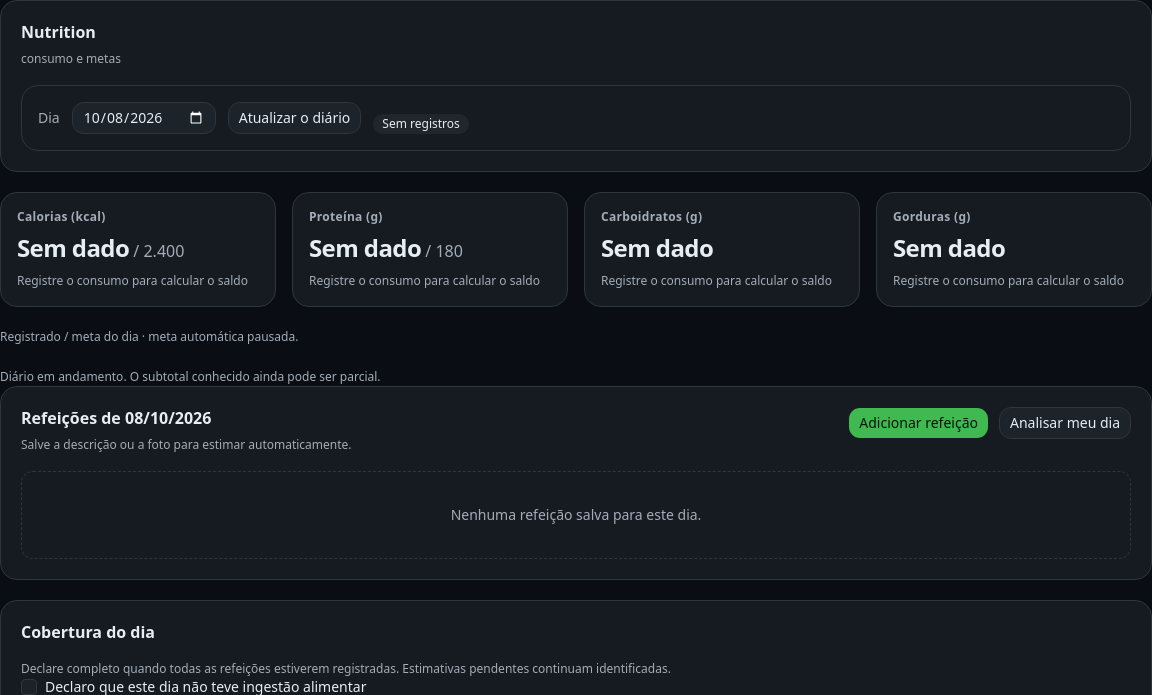
Scenario: nutrition migration behavior › keeps a saved pending meal and reuses its identity after an AI failure
This screenshot has width=1152, height=695.
Click the button "Adicionar refeição". click: (919, 423)
box: [848,407,989,439]
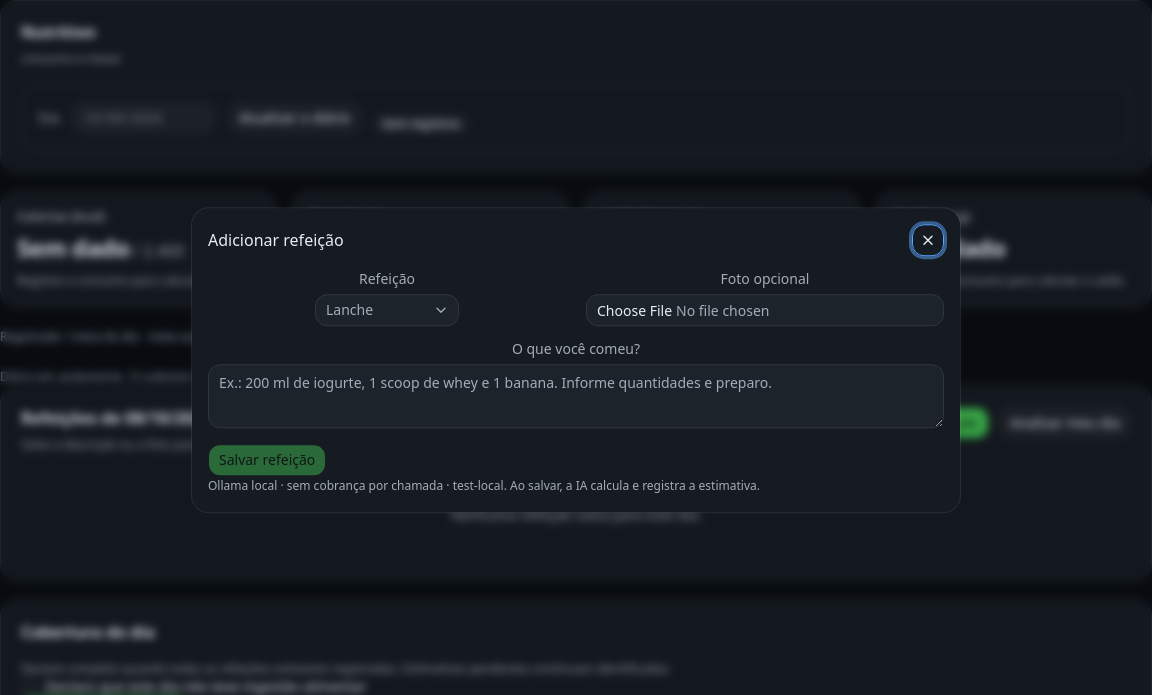
Replace the text in the text box labelled "O que você comeu?" with "Iogurte com banana". click: (576, 396)
box: [208,364,944,428]
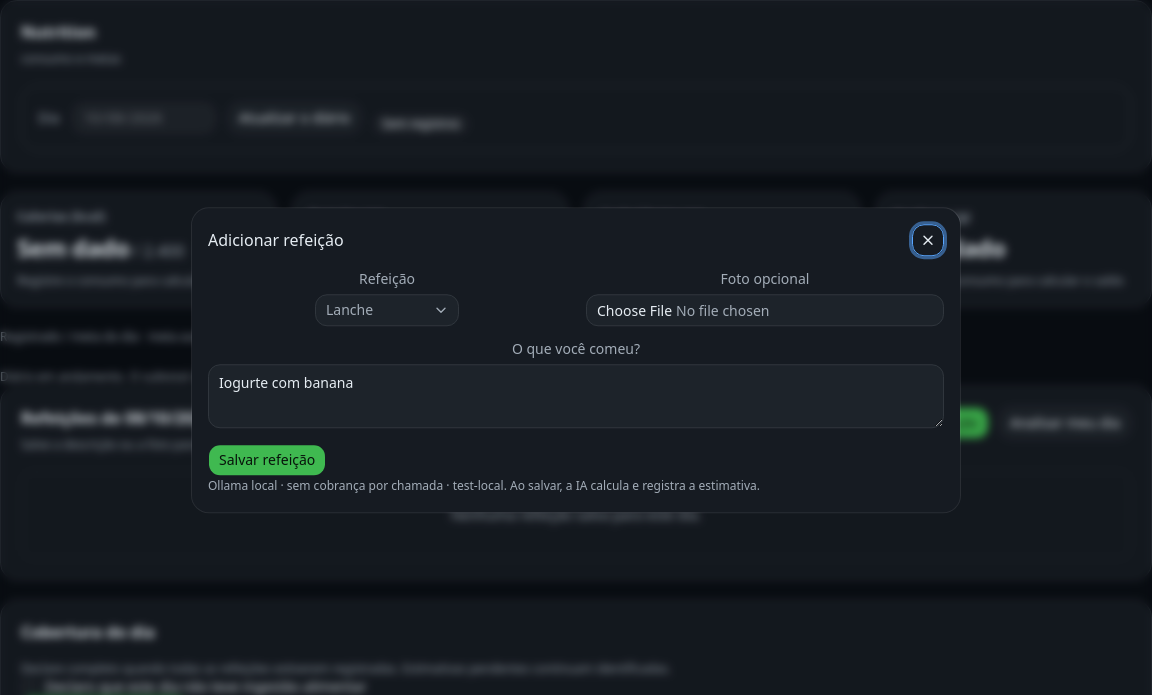
Click the button "Salvar refeição". click: (267, 460)
box: [208,444,326,476]
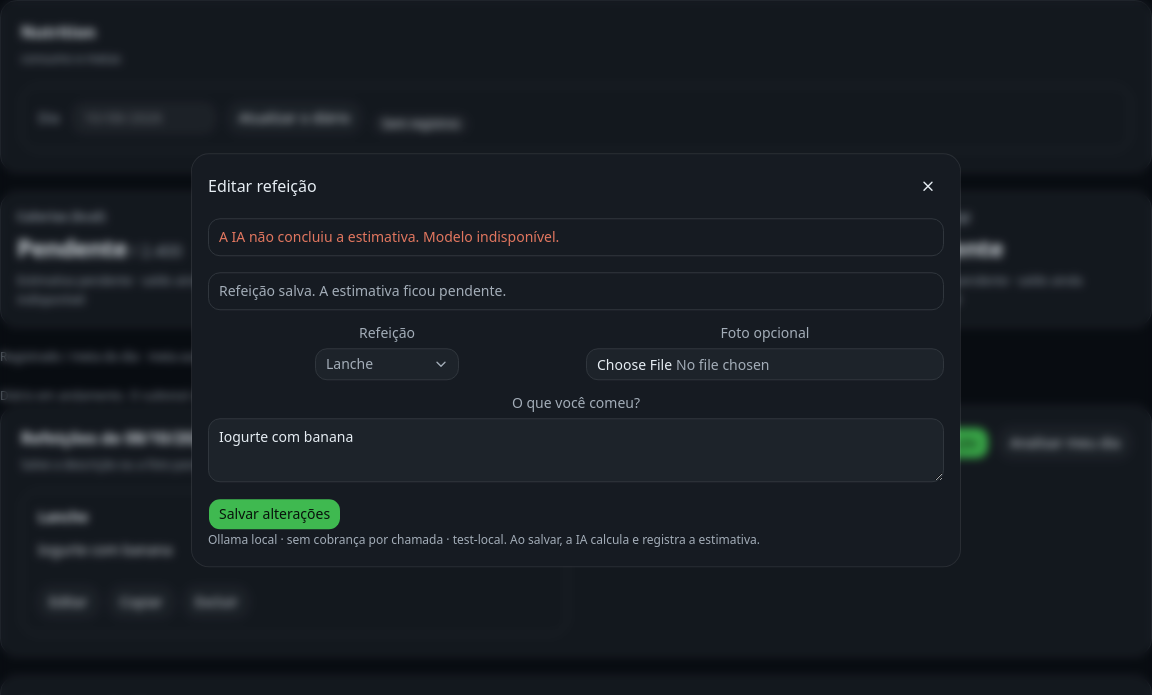
Result: the dialog is shown at [192,154,960,566]
Result: the text "A IA não concluiu a estimativa. Modelo indisponível." is shown at [219,227,559,246]
Click the button "Salvar alterações". click: (275, 514)
box: [208,498,341,530]
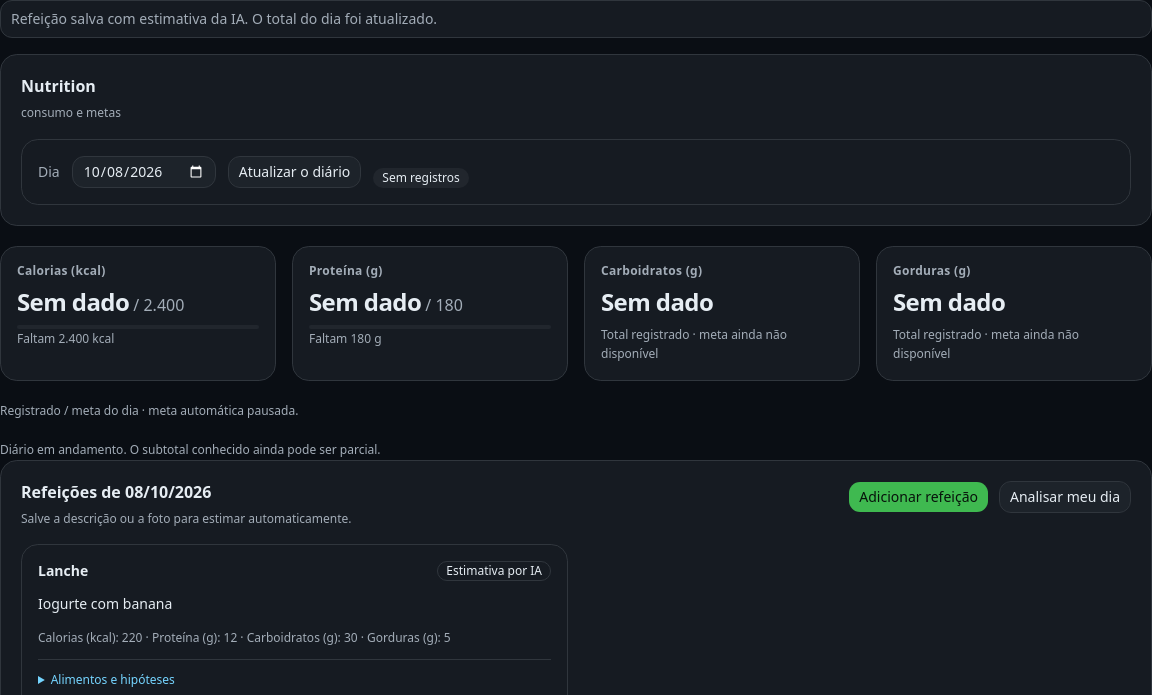
Result: the dialog is gone
